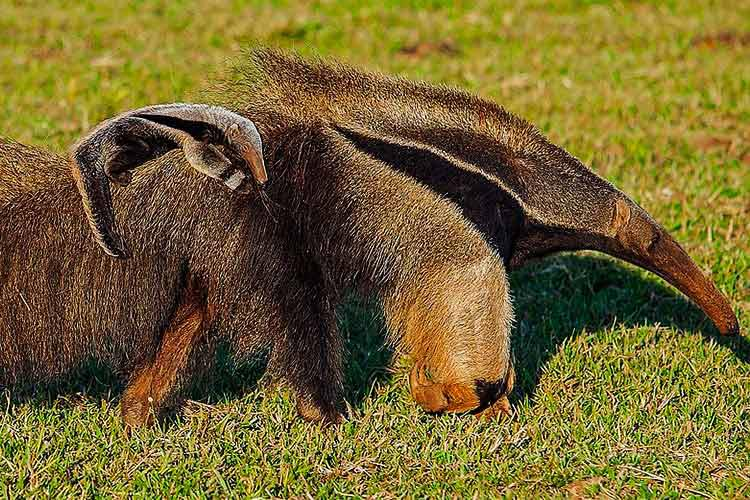TamanduaBandeira: (10, 73, 741, 436), (64, 102, 271, 259)
